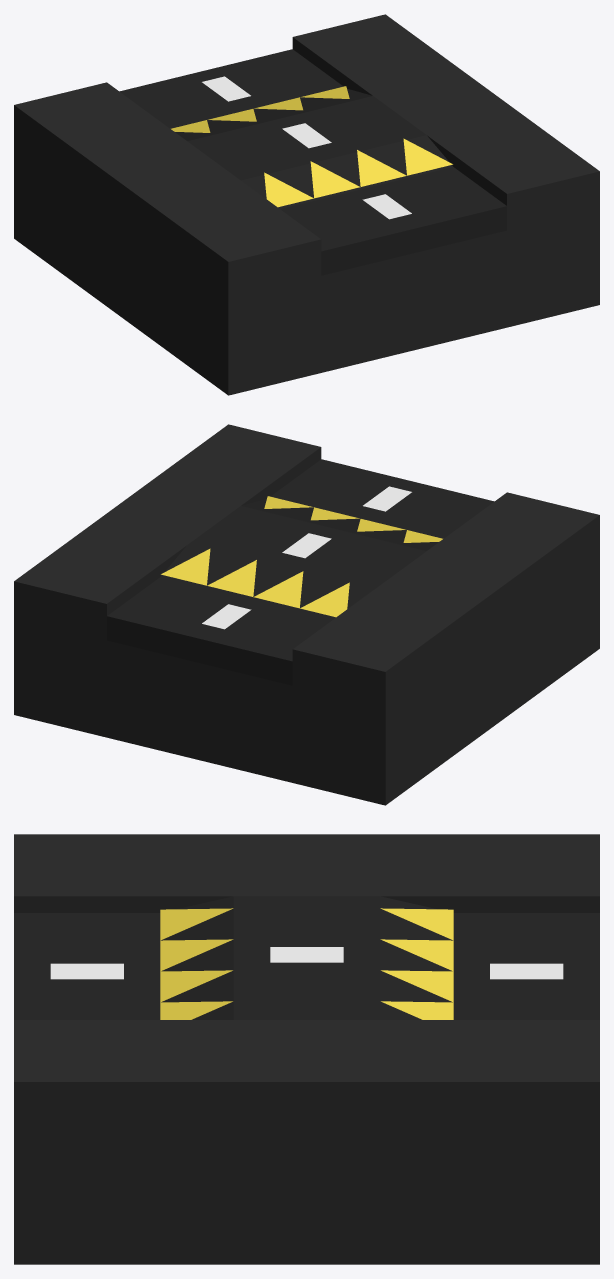
Rendered from city-slowdown.obj.
3 views of the same model, one above another, from view 1: azimuth 30°, elevation 25°; view 2: azimuth 150°, elevation 25°; view 3: azimuth 270°, elevation 25° (orthographic). The views are drawn at different scales.
Parts seen in each view (by area): view 1: grass, road, plane; view 2: grass, road, plane; view 3: grass, road, plane.
Boxes of the visible parts, x1=… form: grass: x1=14, y1=14, x2=599, y2=395; road: x1=119, y1=49, x2=506, y2=275; plane: x1=171, y1=76, x2=452, y2=219; grass: x1=14, y1=424, x2=599, y2=805; road: x1=107, y1=459, x2=494, y2=685; plane: x1=161, y1=486, x2=442, y2=629; grass: x1=14, y1=834, x2=599, y2=1264; road: x1=14, y1=896, x2=599, y2=1019; plane: x1=50, y1=908, x2=563, y2=1019.
Bounding box in the file's own units: 0.25 × 0.0875 × 0.25.
Materials: 1 (1 with a texture image).
